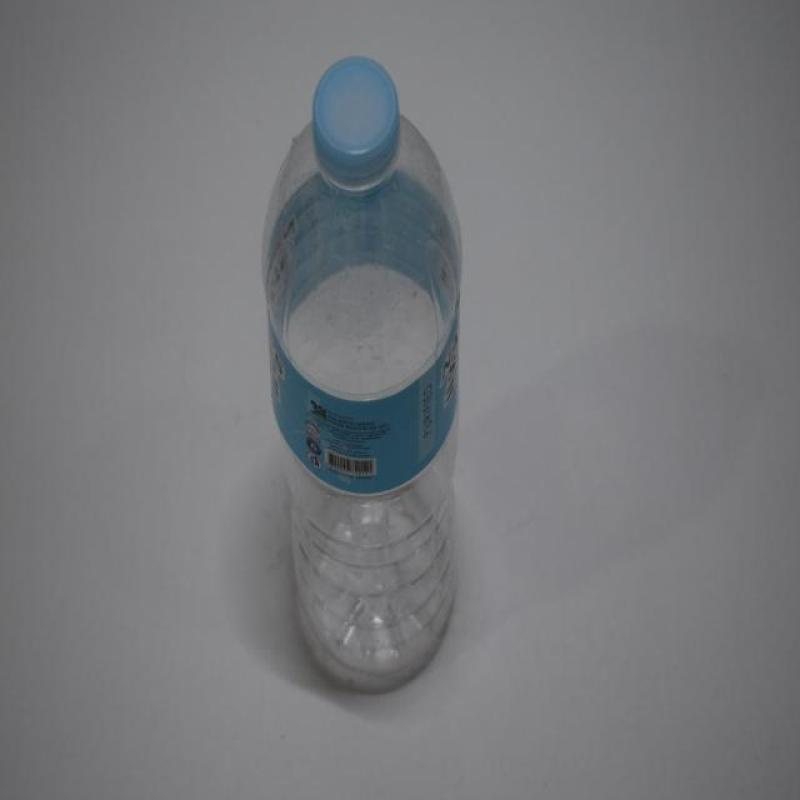botella: (260, 54, 462, 697)
